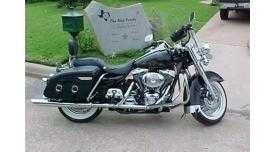motorcycle: (41, 25, 227, 125)
